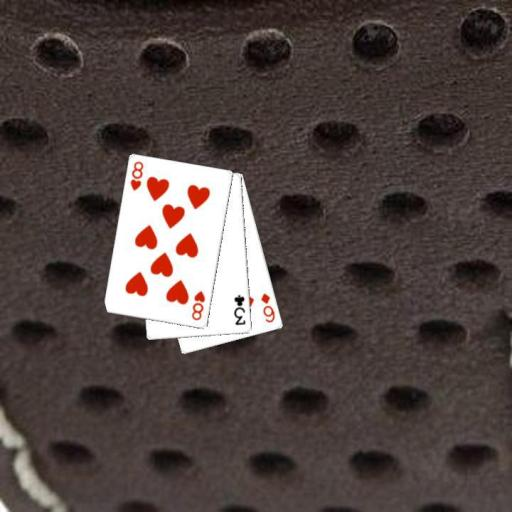3C: (231, 293, 248, 327)
6D: (258, 290, 277, 324)
8H: (188, 288, 207, 322), (127, 159, 145, 192)
